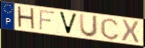C: (100, 17, 120, 41)
F: (38, 9, 57, 32)
H: (16, 6, 37, 32)
U: (79, 13, 100, 39)
V: (58, 11, 79, 36)
X: (121, 18, 141, 44)
